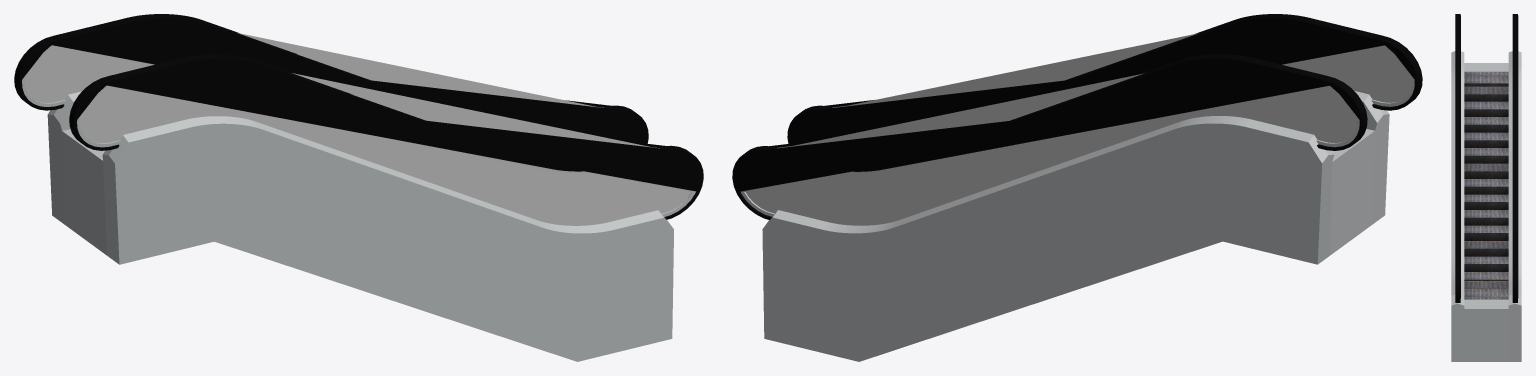
Rendered from escalera electrica n.obj.
3 views of the same model, side by side, from view 1: azimuth 30°, elevation 25°; view 2: azimuth 150°, elevation 25°; view 3: azimuth 270°, elevation 25° (orthographic). The views are drawn at different scales.
Parts seen in each view (by area): view 1: Escalera_electrica_Plane.002; view 2: Escalera_electrica_Plane.002; view 3: Escalera_electrica_Plane.002.
Boxes of the visible parts, x1,y1,x2,y2 form: Escalera_electrica_Plane.002: [14, 14, 703, 361]; Escalera_electrica_Plane.002: [732, 14, 1422, 361]; Escalera_electrica_Plane.002: [1451, 14, 1521, 361].
Bounding box in the file's own units: 1.24 × 0.739 × 0.2302.
4 materials, 2 textured.
